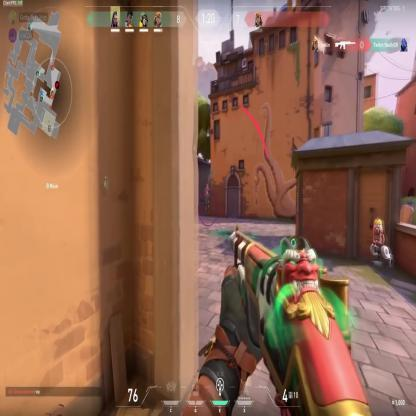enemy: (204, 182, 210, 210)
enemy_head: (206, 184, 208, 188)
